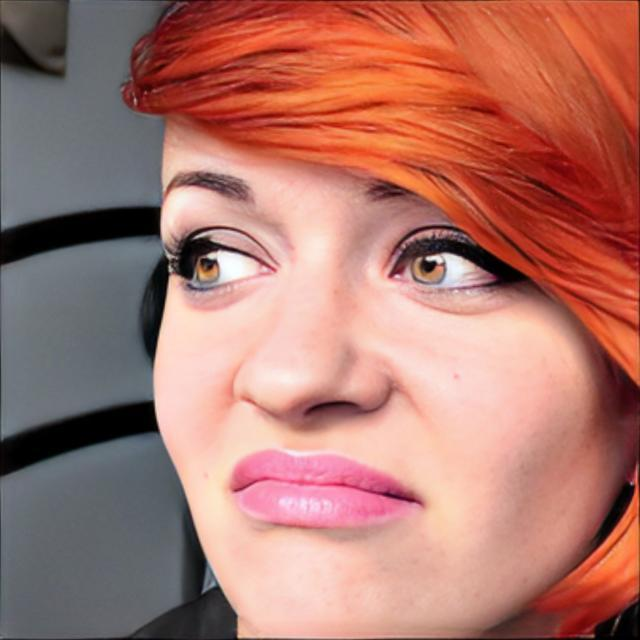disgust: (148, 106, 640, 640)
